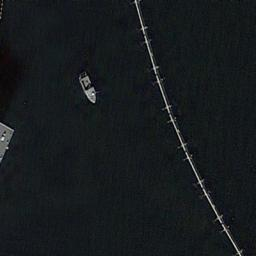boat: (78, 70, 97, 104)
